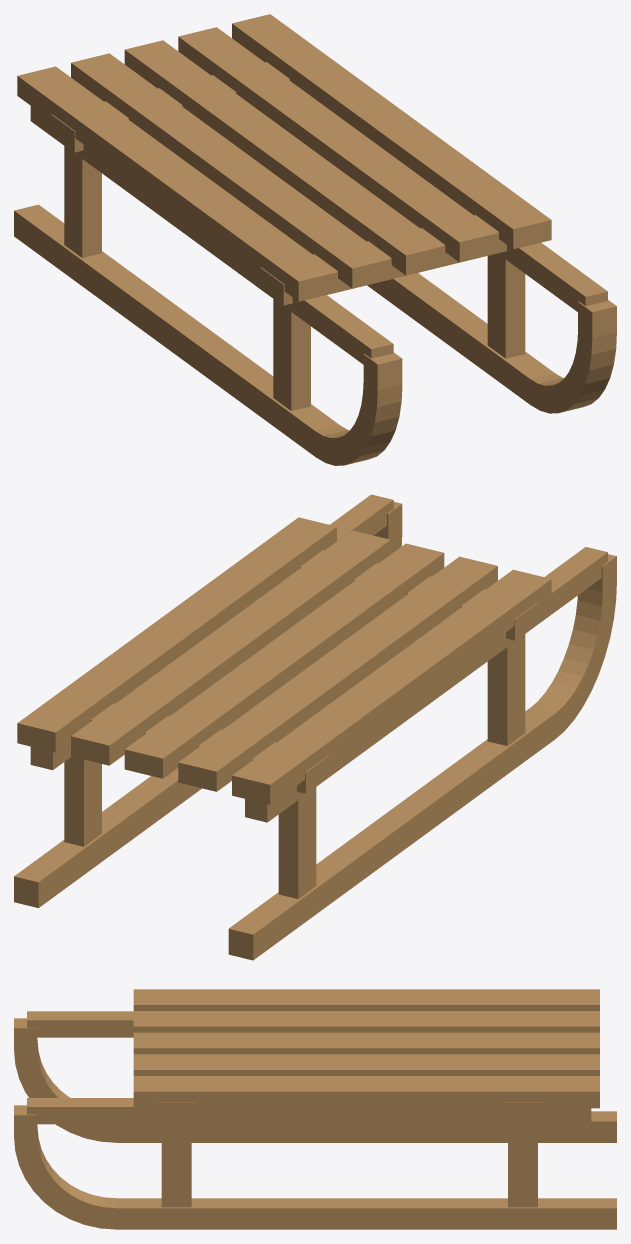
Rendered from NEW_RECOVERY_021_LOD1.glb.
3 views of the same model, one above another, from view 1: azimuth 30°, elevation 25°; view 2: azimuth 150°, elevation 25°; view 3: azimuth 270°, elevation 25° (orthographic). The views are drawn at different scales.
Visible parts, largest first — view 1: Sled_fused_finite_frame; view 2: Sled_fused_finite_frame; view 3: Sled_fused_finite_frame.
Boxes of the visible parts, x1,y1,x2,y2 form: Sled_fused_finite_frame: (14,14,616,465); Sled_fused_finite_frame: (14,494,616,960); Sled_fused_finite_frame: (14,989,616,1229).
Size of the model in its own units: 0.5698 by 0.363 by 1.41.
